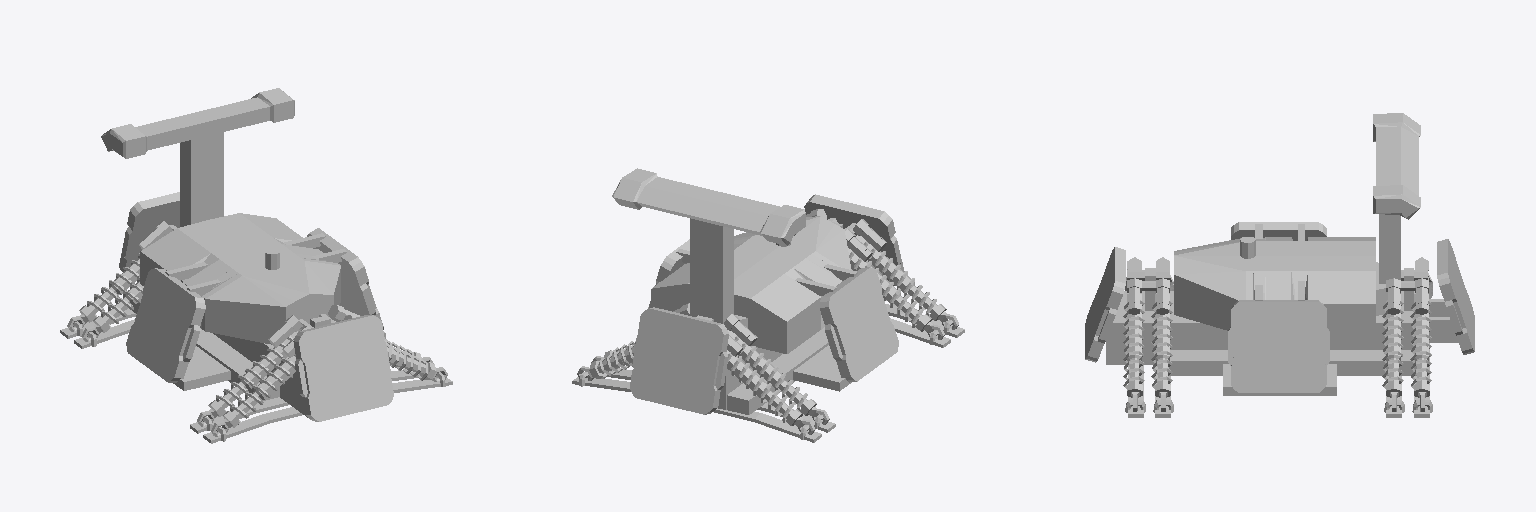
The model's file is RM2018_Standard_Body.obj.
3 renders of one model, left to right at view 1: azimuth 30°, elevation 25°; view 2: azimuth 150°, elevation 25°; view 3: azimuth 270°, elevation 25°, orthographic.
Parts seen in each view (by area): view 1: polySurface206; view 2: polySurface206; view 3: polySurface206.
Boxes of the visible parts, <box> form: polySurface206: <box>60,88,452,443</box>; polySurface206: <box>572,168,964,442</box>; polySurface206: <box>1085,113,1474,417</box>.
Bounding box in the file's own units: 4.87 × 3.96 × 6.82.